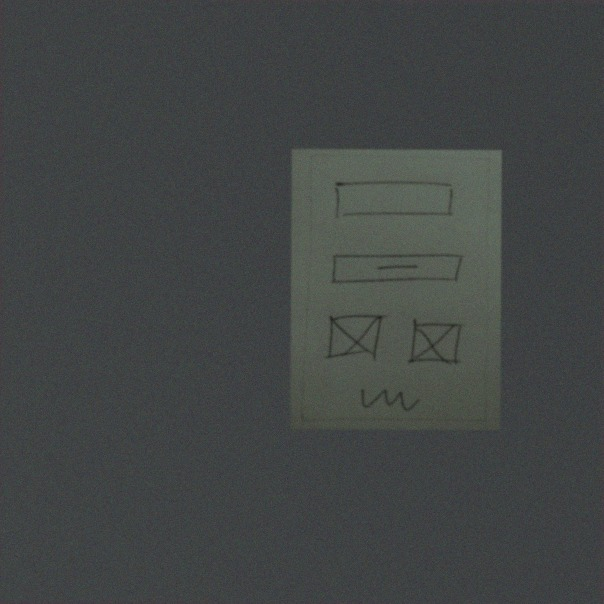button: (328, 250, 466, 288)
image: (324, 313, 390, 365), (406, 316, 466, 370)
text: (356, 382, 423, 416)
text_input: (331, 177, 459, 222)
